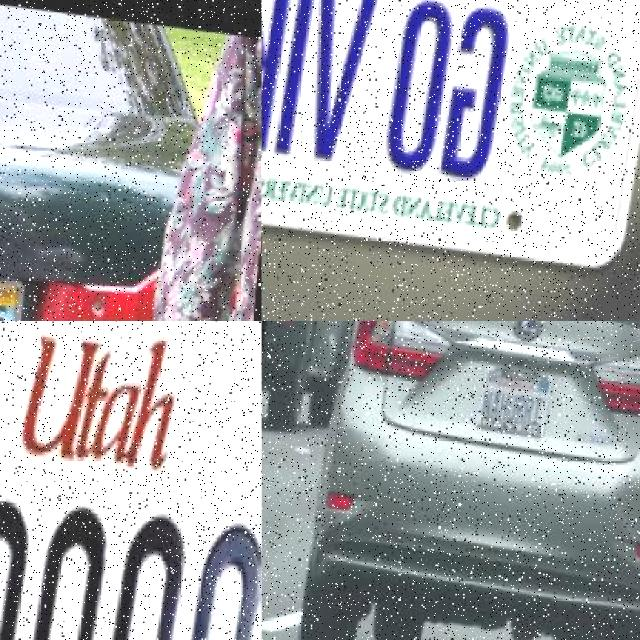licenseplate: (262, 0, 530, 180), (0, 486, 262, 640), (485, 361, 557, 430), (0, 265, 86, 320)
